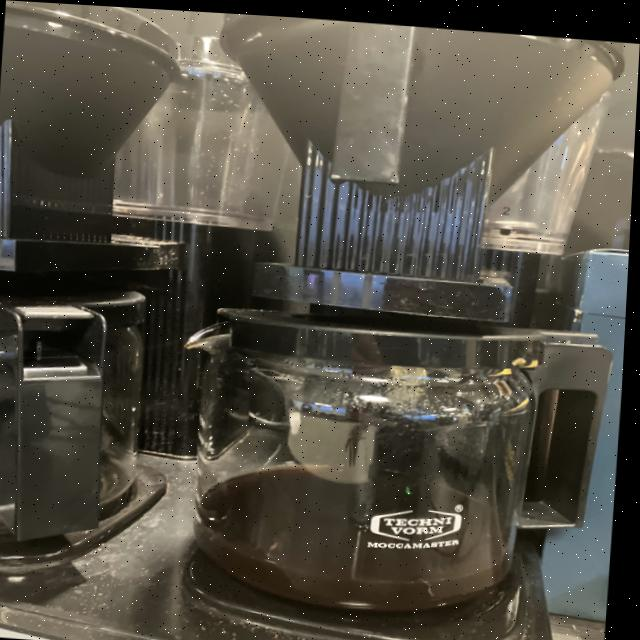nocoffee: (191, 302, 551, 620)
